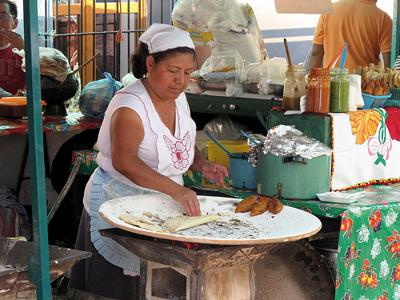person: (80, 22, 232, 300)
